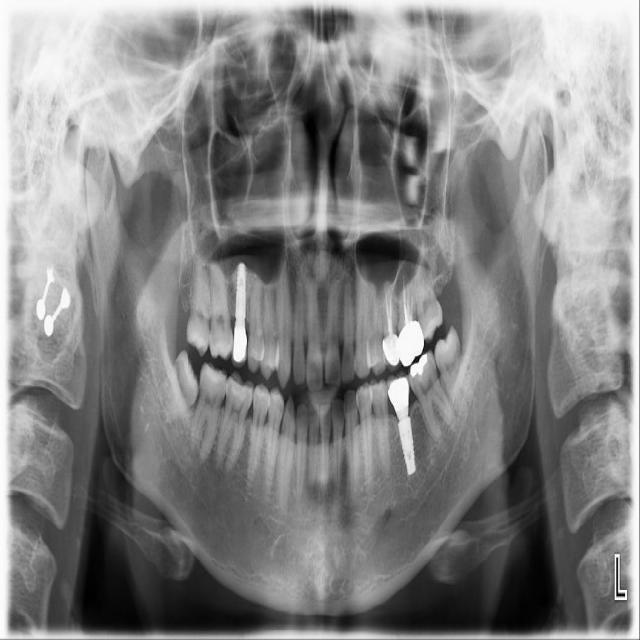3M ESPE Implant: (184, 255, 211, 357)
52: (385, 368, 414, 423), (394, 319, 427, 367), (379, 332, 405, 373), (231, 325, 250, 369), (408, 350, 429, 380)
73: (397, 267, 418, 338), (380, 280, 398, 339), (572, 568, 576, 580)
BioHorizons Implant: (411, 248, 446, 344)
Biomet 3i Implant: (427, 324, 479, 419)
Blue Sky Bio Implant: (400, 348, 462, 441)
Caries: (206, 263, 234, 361)
Implant: (184, 361, 232, 462)
Keystone Dental Implant: (142, 348, 216, 429)
